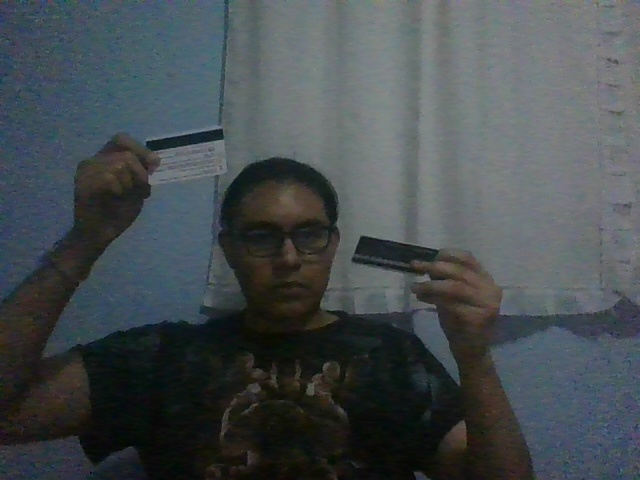tarjeta: (145, 125, 228, 187), (350, 234, 440, 277)
